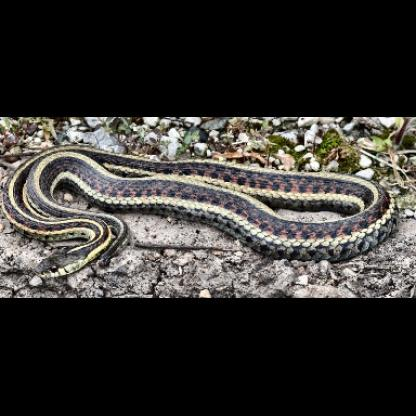Snake: (0, 140, 403, 284)
